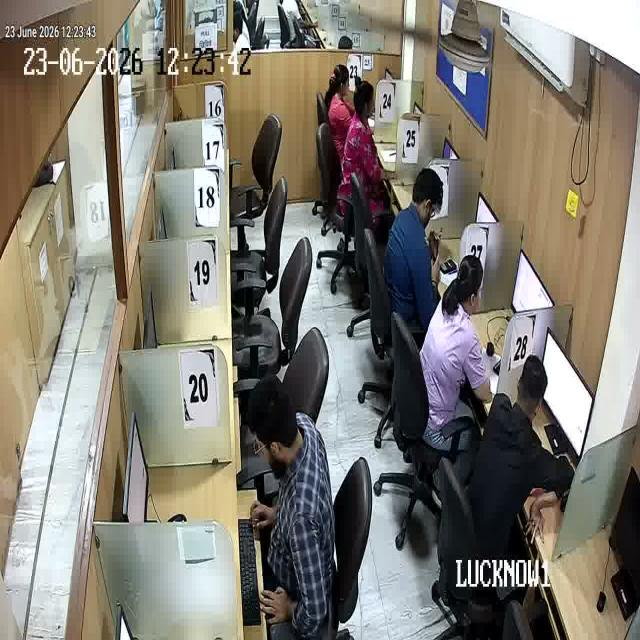phone: (429, 223, 441, 256)
